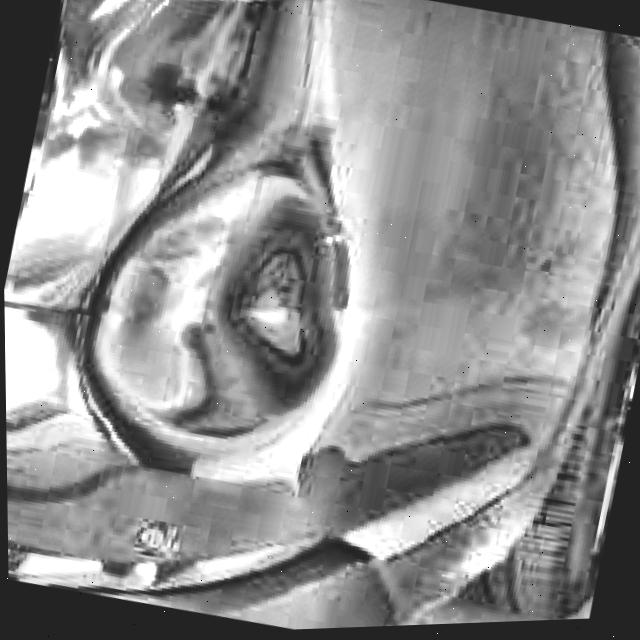bumper_dent: (44, 110, 380, 513)
